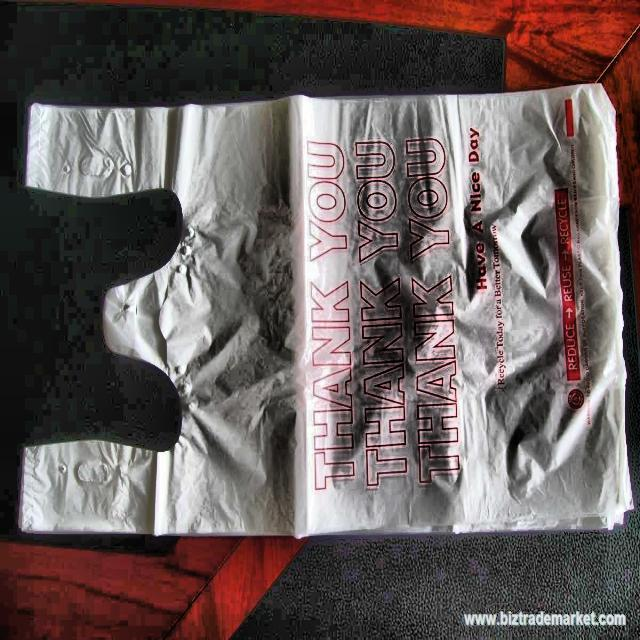Plastic: (19, 64, 632, 557)
